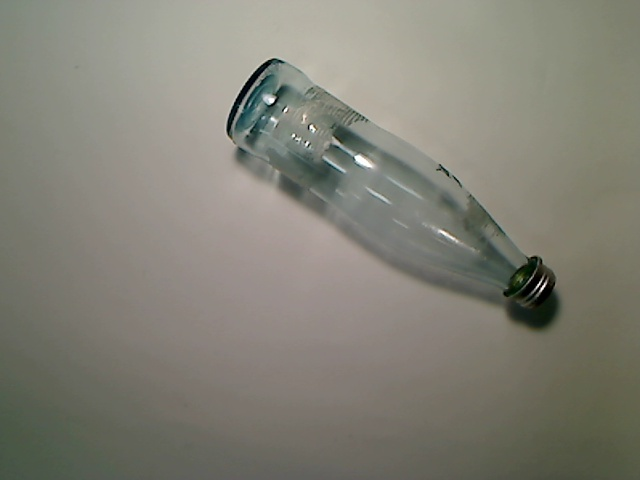bottle: (226, 58, 557, 307)
